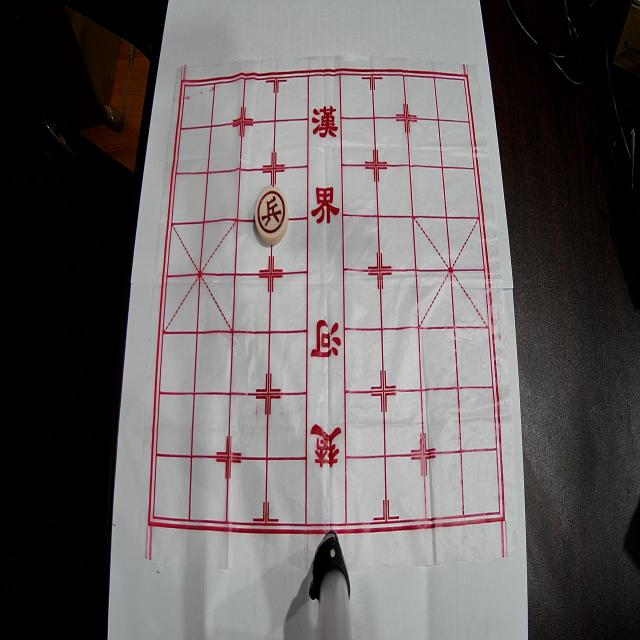red-soldier: (254, 188, 288, 244)
